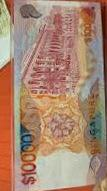10000SingaporeDollar: (16, 3, 102, 185)
